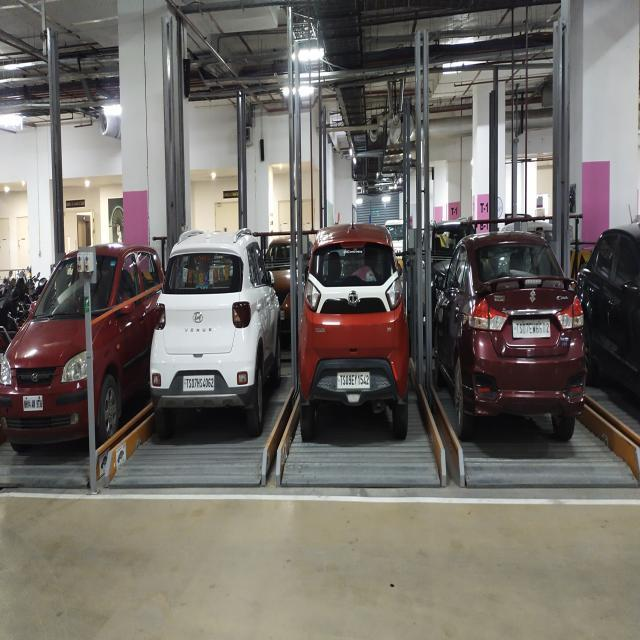car: (466, 243, 596, 474), (294, 238, 416, 481), (146, 234, 262, 476), (6, 324, 90, 488)
